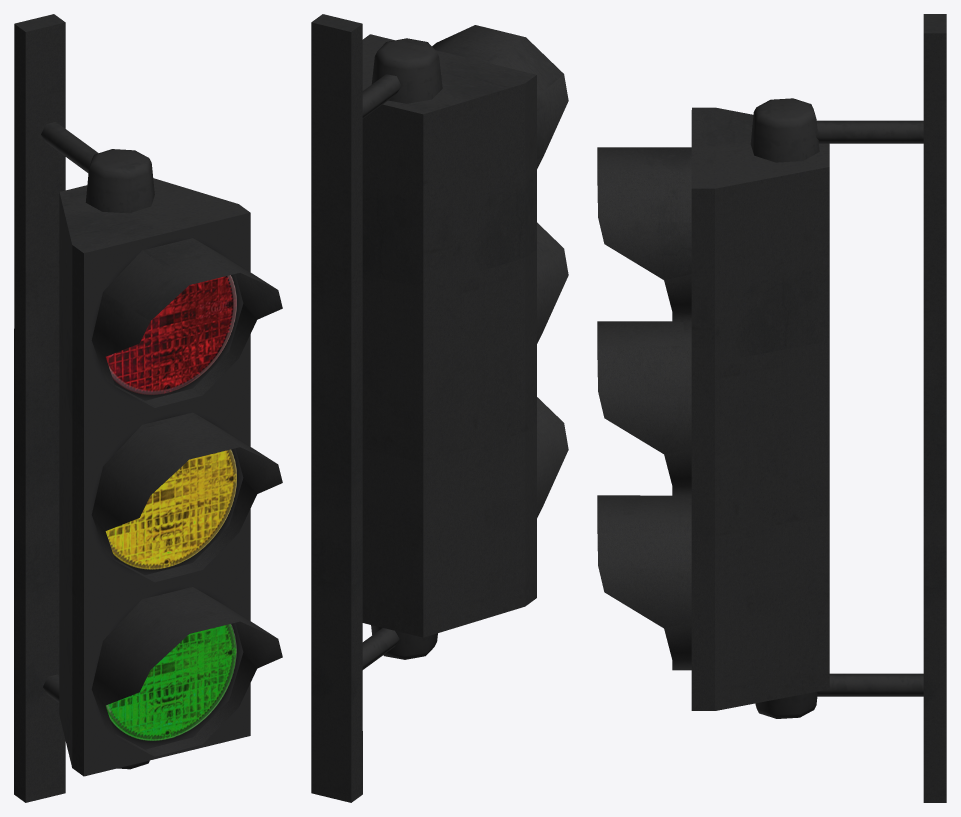
Rendered from Light_set_005.FBX.
The picture shows the model from 3 angles, left to right: view 1: azimuth 30°, elevation 25°; view 2: azimuth 150°, elevation 25°; view 3: azimuth 270°, elevation 25°; orthographic projection.
Parts seen in each view (by area): view 1: Light_set_005; view 2: Light_set_005; view 3: Light_set_005.
Part boxes in pixels (x1,y1,x2,y2): Light_set_005: [14, 14, 282, 802]; Light_set_005: [311, 14, 568, 802]; Light_set_005: [597, 14, 946, 802].
Size of the model in its own units: 0.2507 by 1.11 by 0.4559.
